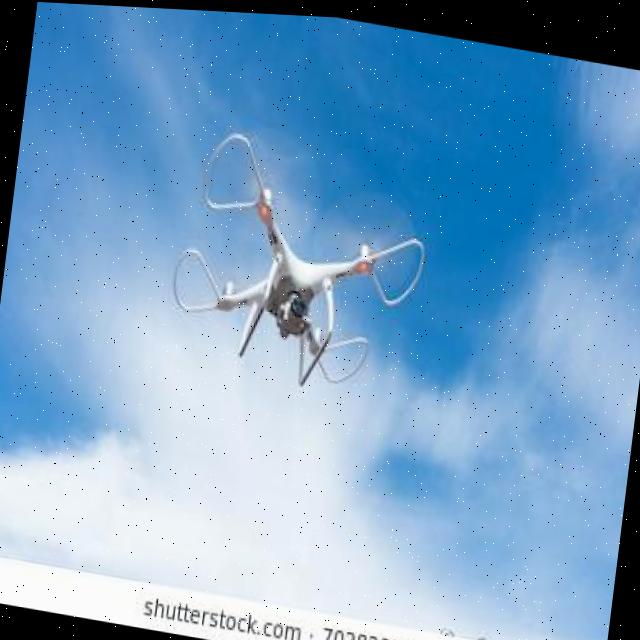drone: (144, 109, 446, 417)
